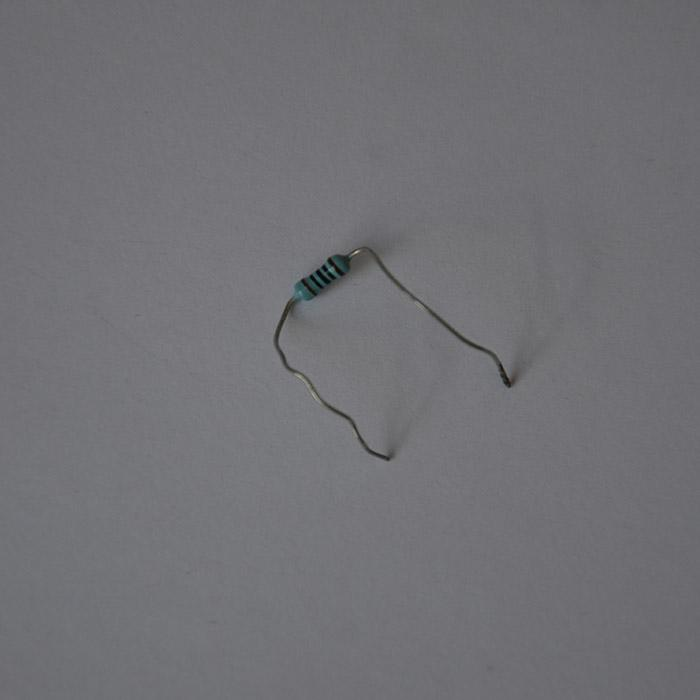resistor: (291, 252, 354, 303)
